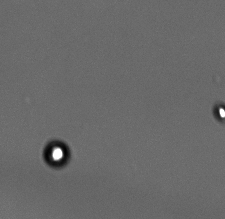Living Cell: (43, 139, 70, 168)
